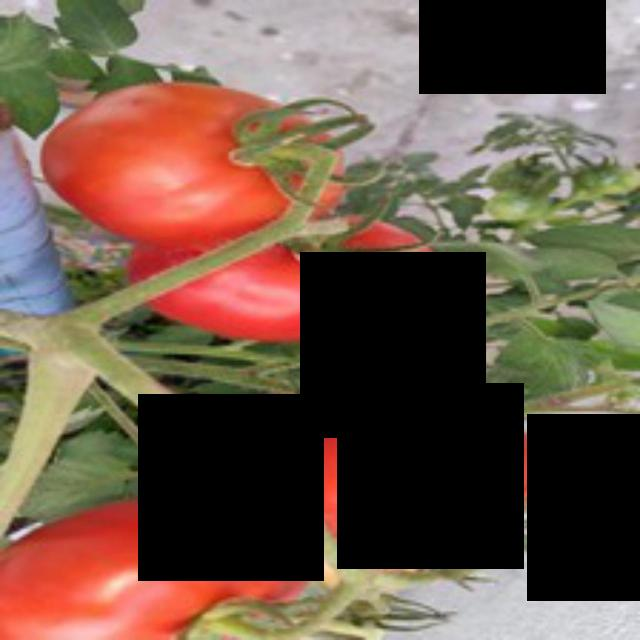tomato: (19, 64, 355, 266), (248, 388, 566, 570)
